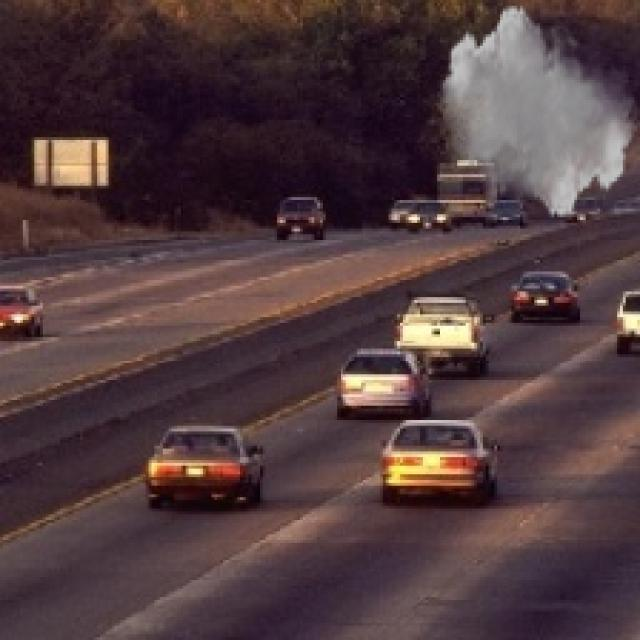Smoke: (437, 3, 637, 220)
